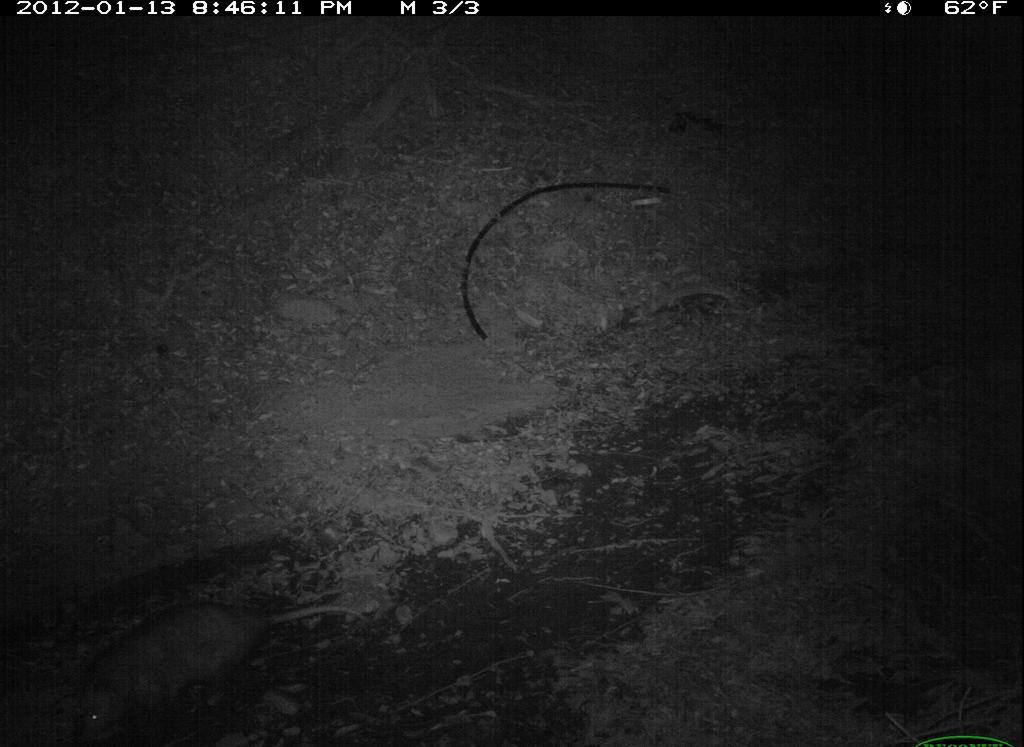opossum: (65, 587, 368, 747)
